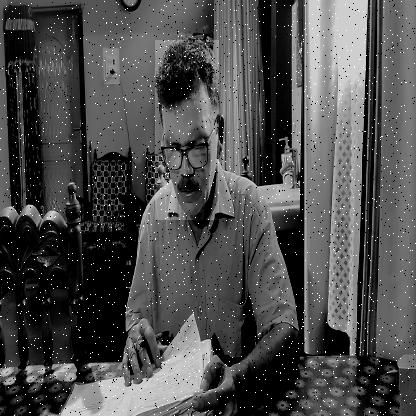Normal: (155, 40, 219, 220)
